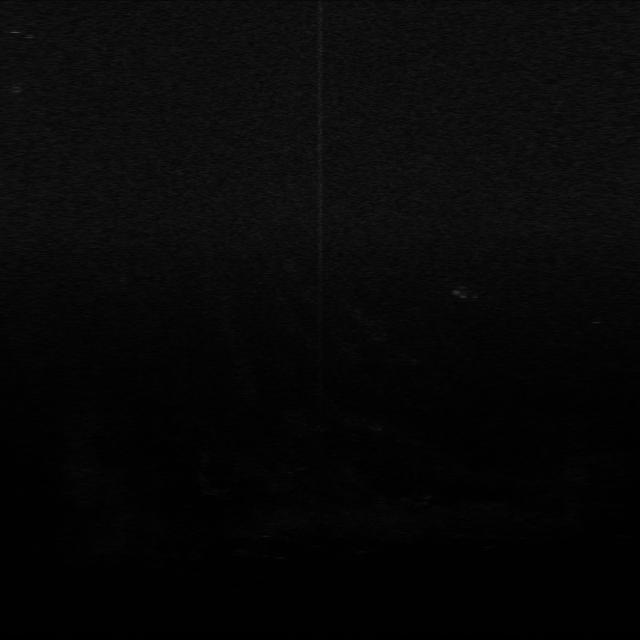rov: (6, 81, 28, 98)
